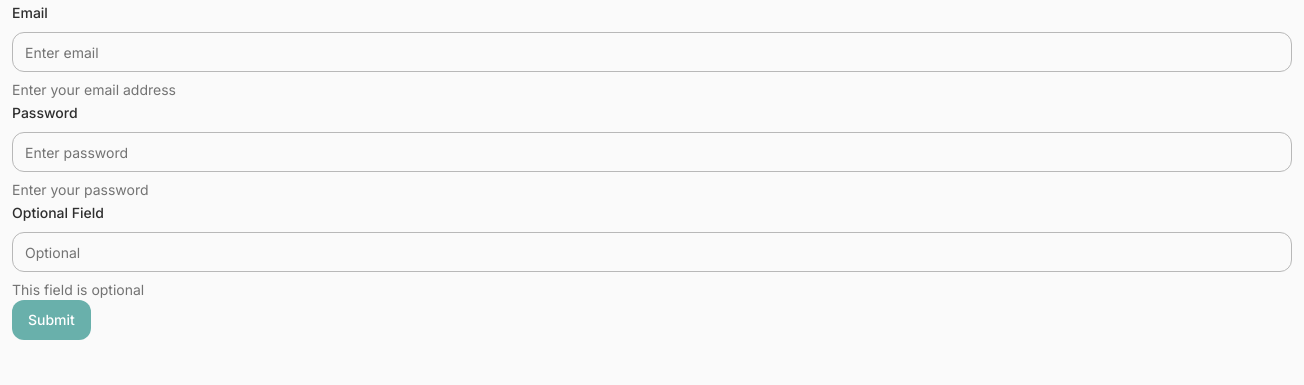
Scenario: Form Components › Form › displays validation errors for password length
Type "short" into the password field labelled "Password" at (652, 152), box [12,132,1292,172]
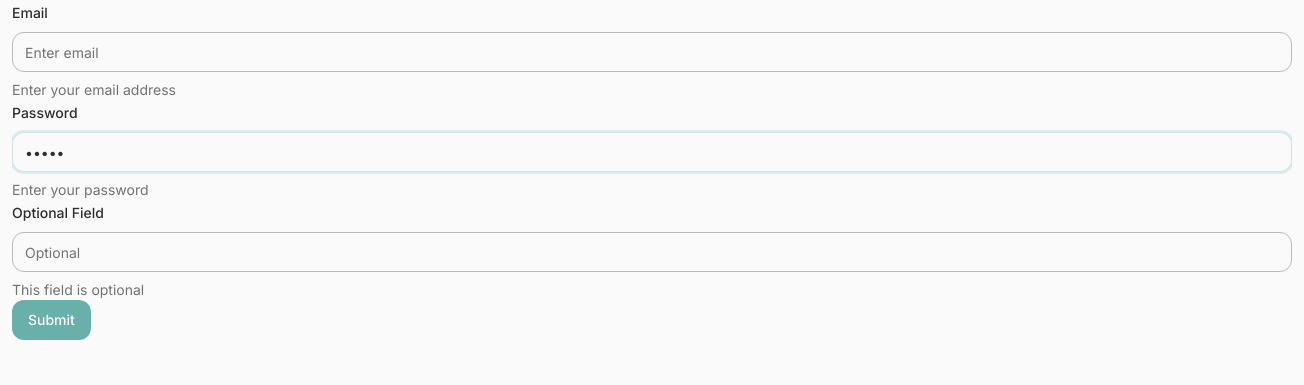
Press Tab
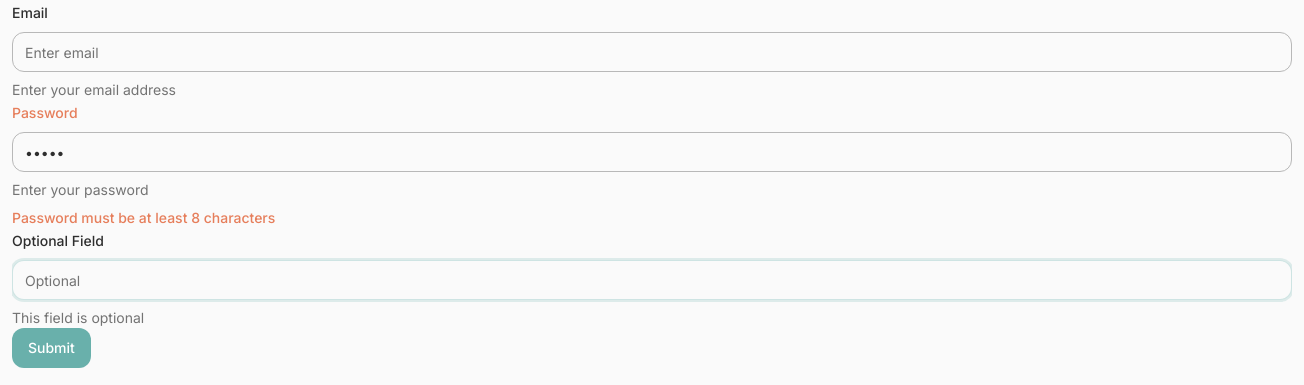
Now the text "Password must be at least 8 characters" is shown, box [12,209,275,226]
